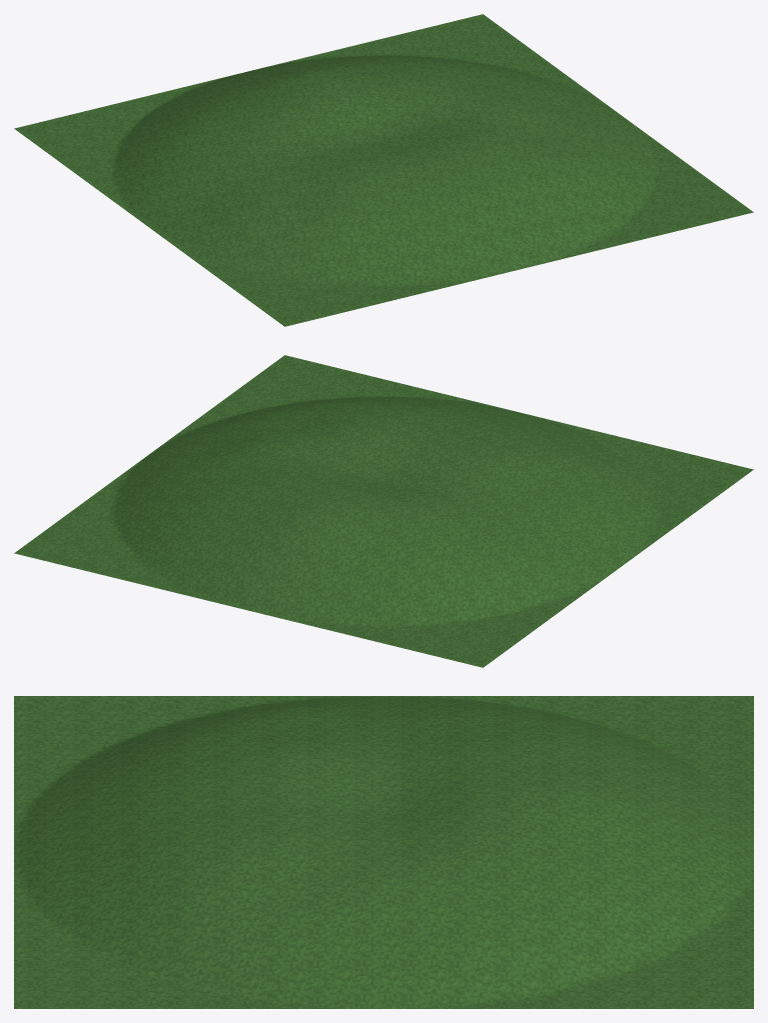
The model's file is terrain.gltf.
3 renders of one model, top to bottom at view 1: azimuth 30°, elevation 25°; view 2: azimuth 150°, elevation 25°; view 3: azimuth 270°, elevation 25°, orthographic. The views are drawn at different scales.
Parts seen in each view (by area): view 1: terrain; view 2: terrain; view 3: terrain.
Part boxes in pixels (x1=…): terrain: x1=14, y1=14, x2=753, y2=326; terrain: x1=14, y1=355, x2=753, y2=667; terrain: x1=14, y1=696, x2=753, y2=1008.
Size of the model in its own units: 68 by 6.33 by 68.
Materials: 1 (1 with a texture image).
